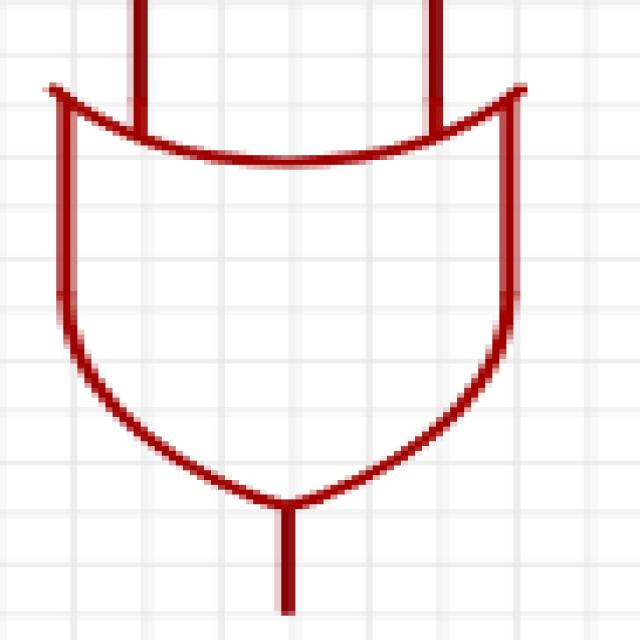or: (24, 0, 593, 618)
